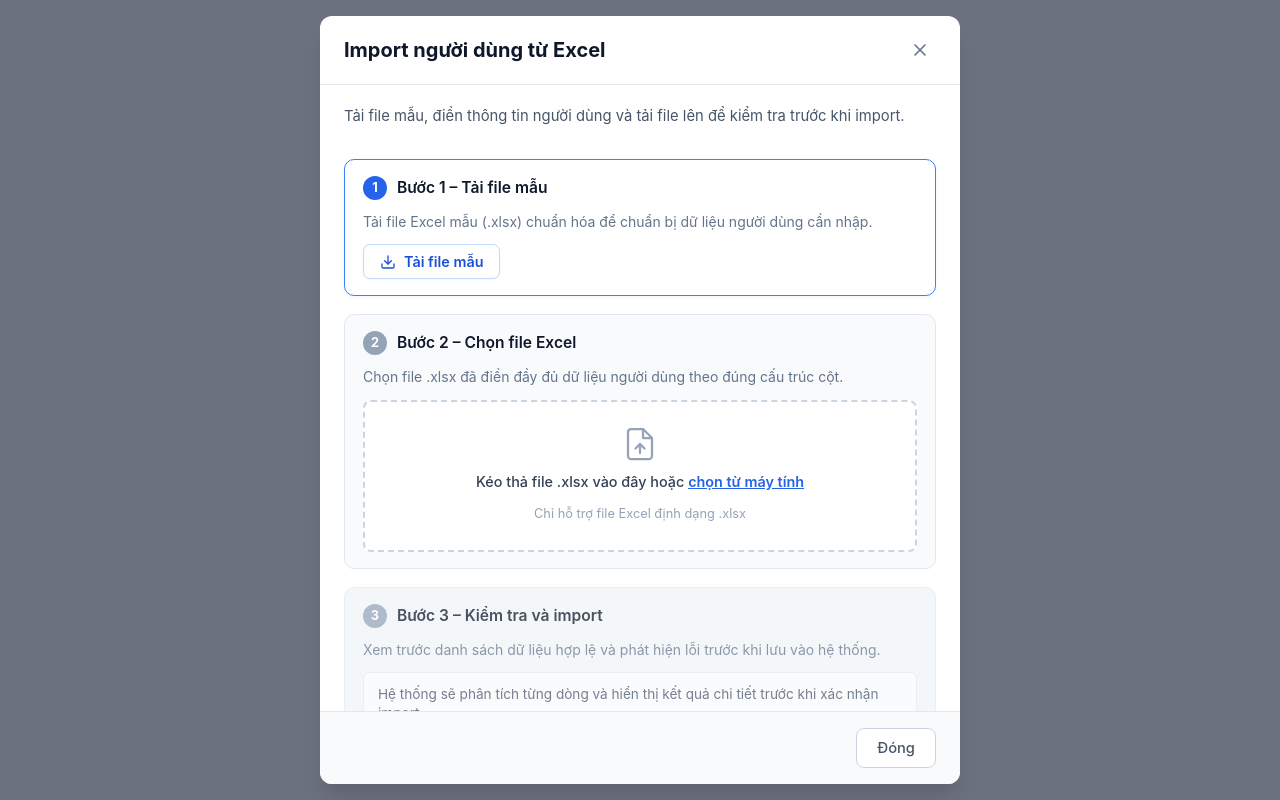
Test: SCRUM-119: Activity A6.1 - Bulk User Import Modal & Entry Point › 7. Hiển thị thông báo lỗi generic khi có lỗi mạng bất ngờ
Click the button with test id "btn-download-template".
click(432, 262)  # box [363,244,500,280]
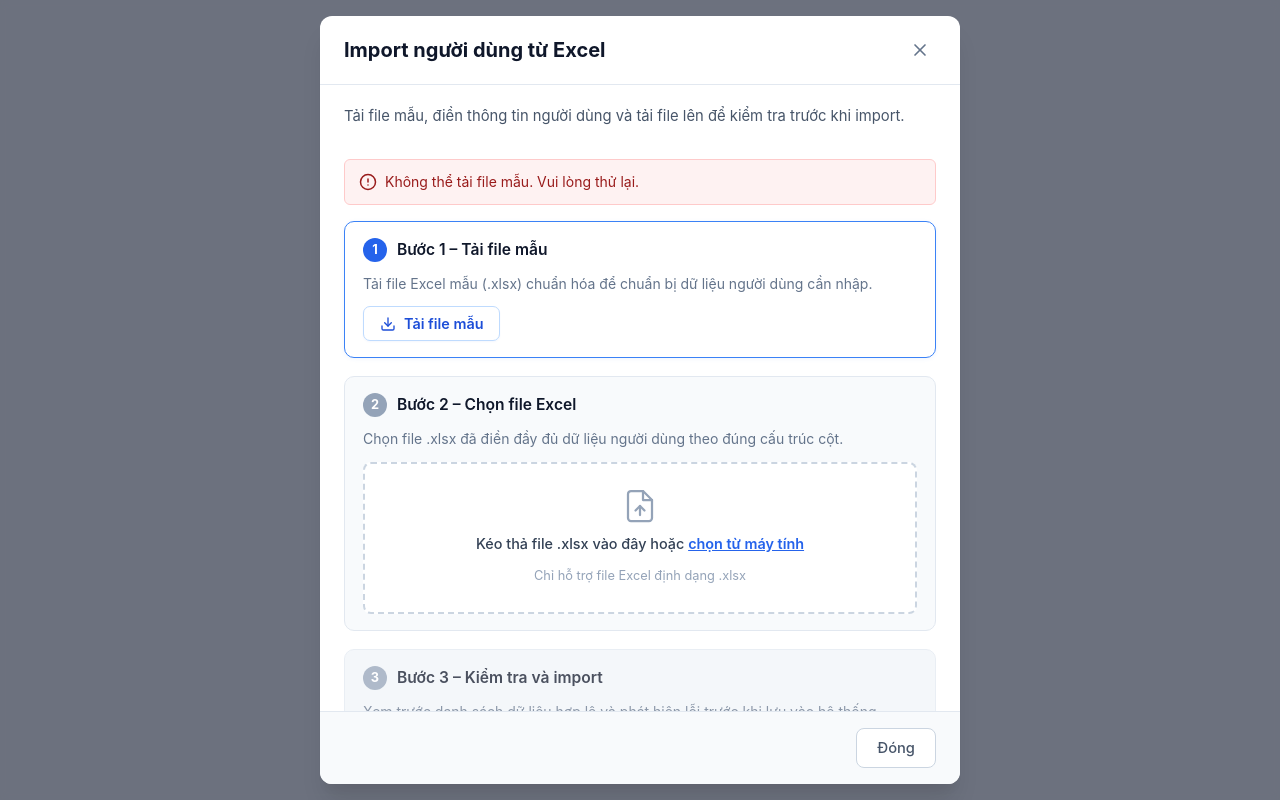
expect the message "Không thể tải file mẫu. Vui lòng thử lại." is shown: met, box [344,159,936,205]
expect the message with test id "import-error-banner" reads "Không thể tải file mẫu. Vui lòng thử lại.": met, box [385,173,639,190]
